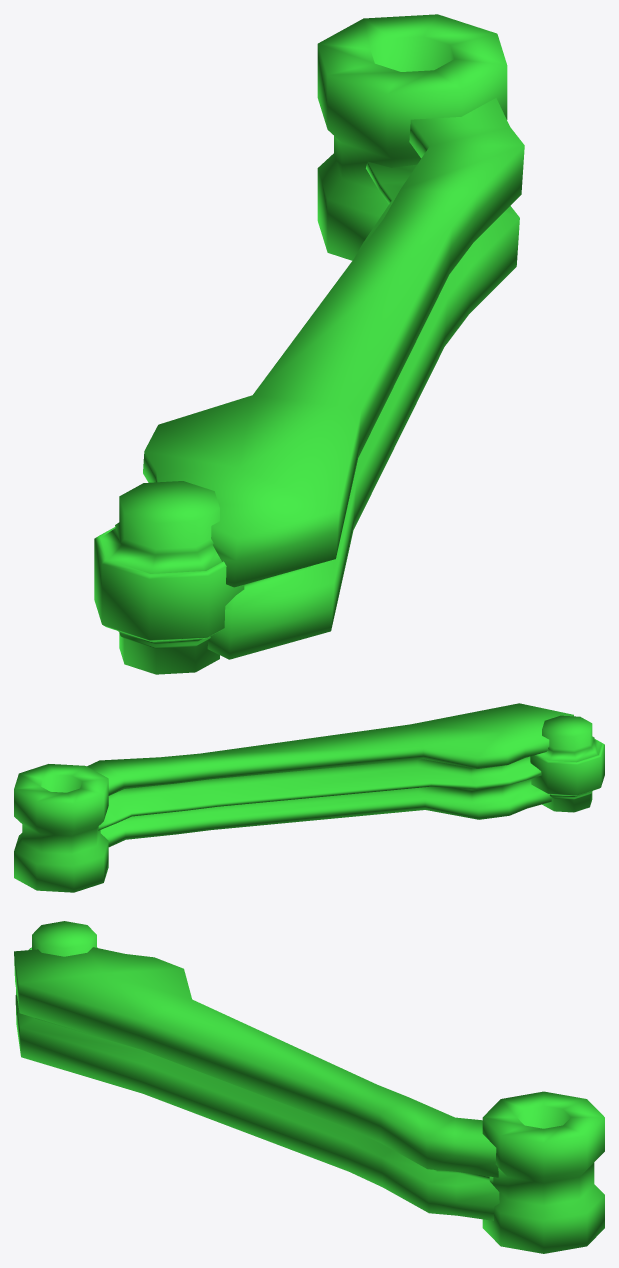
The model's file is SM_Pate_02.fbx.
The picture shows the model from 3 angles, top to bottom: view 1: azimuth 30°, elevation 25°; view 2: azimuth 150°, elevation 25°; view 3: azimuth 270°, elevation 25°; orthographic projection. The views are drawn at different scales.
Visible parts, largest first — view 1: SM_Pate_02; view 2: SM_Pate_02; view 3: SM_Pate_02.
Part boxes in pixels (x1=…): SM_Pate_02: x1=94, y1=14, x2=524, y2=674; SM_Pate_02: x1=14, y1=703, x2=604, y2=892; SM_Pate_02: x1=14, y1=921, x2=604, y2=1253.
Size of the model in its own units: 1.11 by 0.2425 by 1.17.
